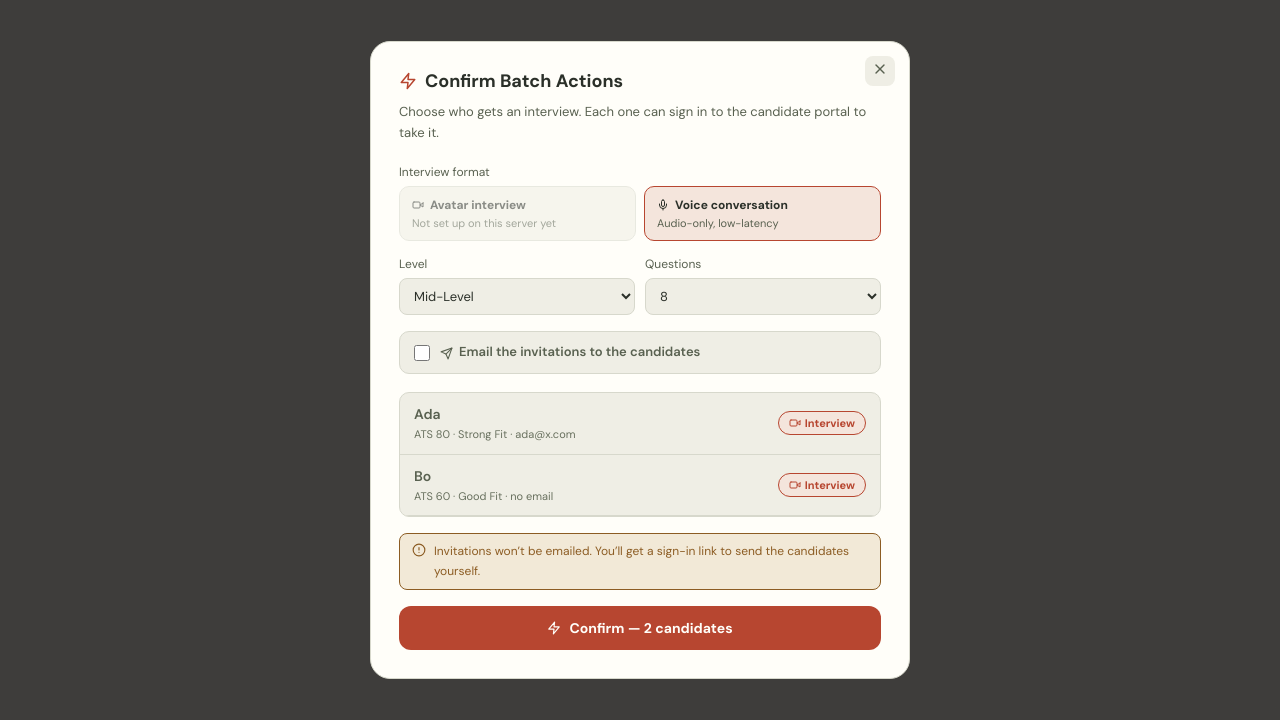
the batch dialog › says why an invitation was not emailed
Click the checkbox labelled "Email the invitations to the candidates": coordinates (422, 353) [414, 345, 430, 361]
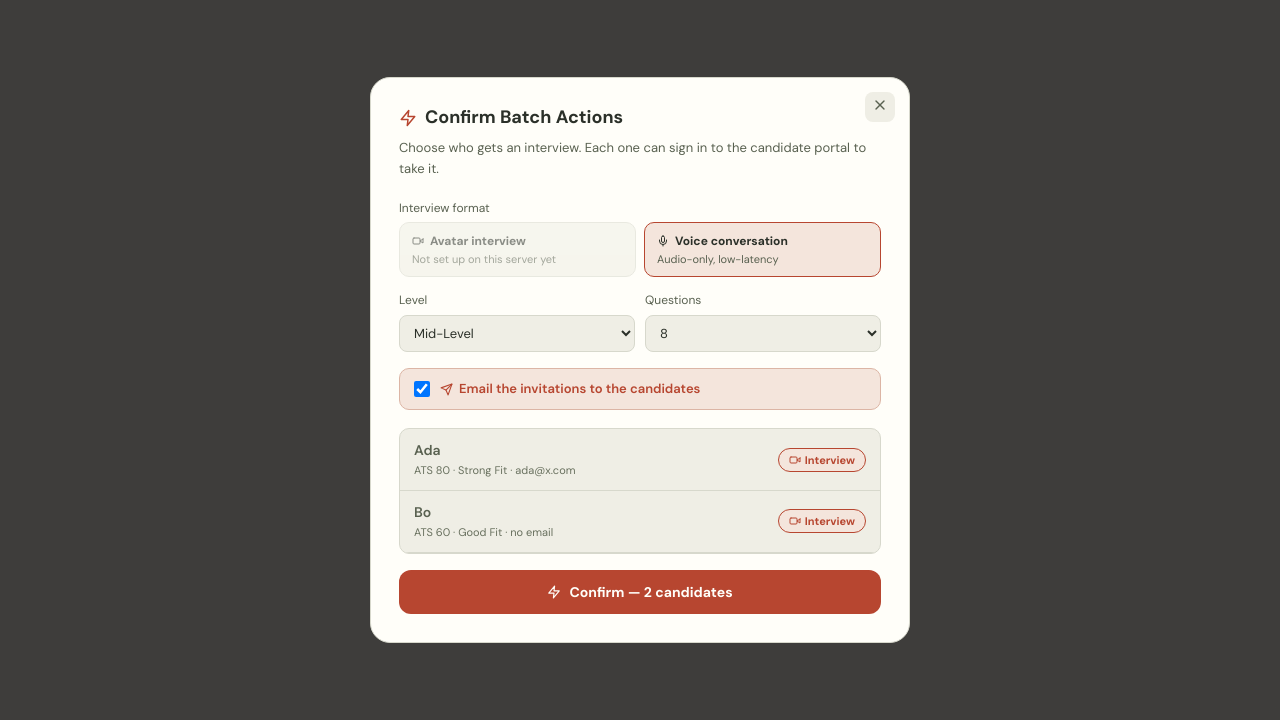
Click the button "Confirm — 2 candidates": coordinates (640, 592) [399, 570, 881, 614]
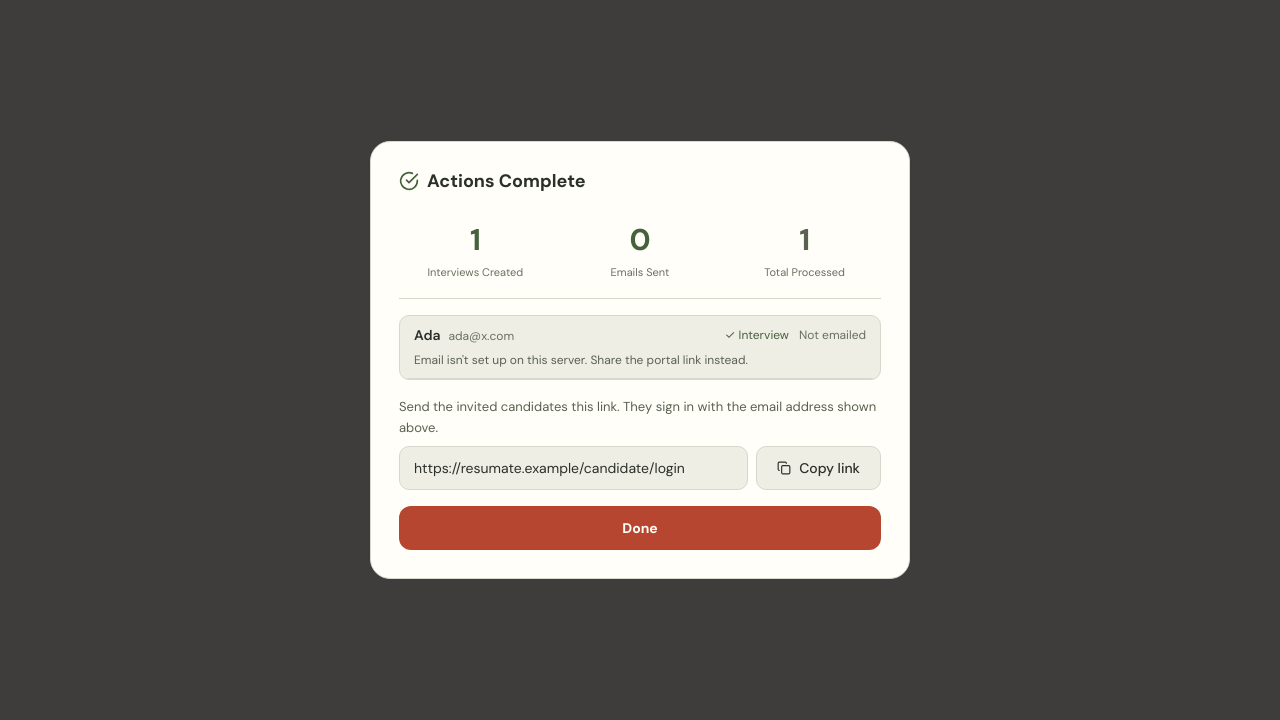
Now the heading "Actions Complete" is shown, box [399, 169, 586, 193]
Now the text "Email isn't set up on this server. Share the portal link instead." is shown, box [414, 352, 748, 368]
